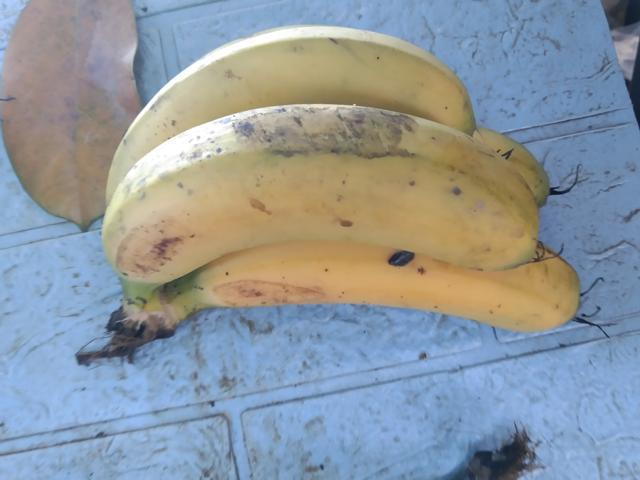ripe: (71, 98, 548, 285)
